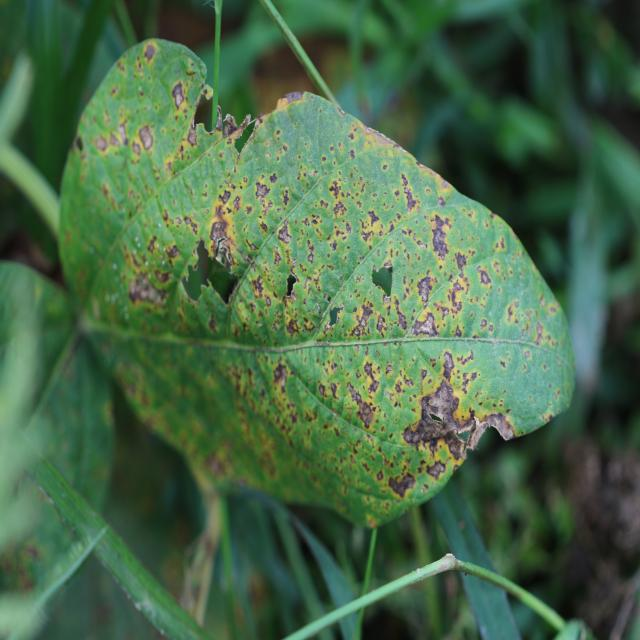Bacterial_Blight: (230, 352, 310, 456), (389, 431, 464, 498), (322, 163, 379, 241), (500, 278, 555, 345), (206, 192, 242, 266), (420, 377, 462, 430), (94, 118, 131, 156), (360, 122, 402, 150), (128, 276, 166, 306), (429, 214, 453, 260), (447, 274, 470, 317), (255, 188, 279, 225), (361, 359, 383, 398), (401, 175, 420, 212), (416, 274, 437, 306), (272, 358, 289, 387), (171, 81, 185, 109), (477, 267, 492, 286), (286, 318, 300, 336)
Soybean: (59, 39, 574, 526)
